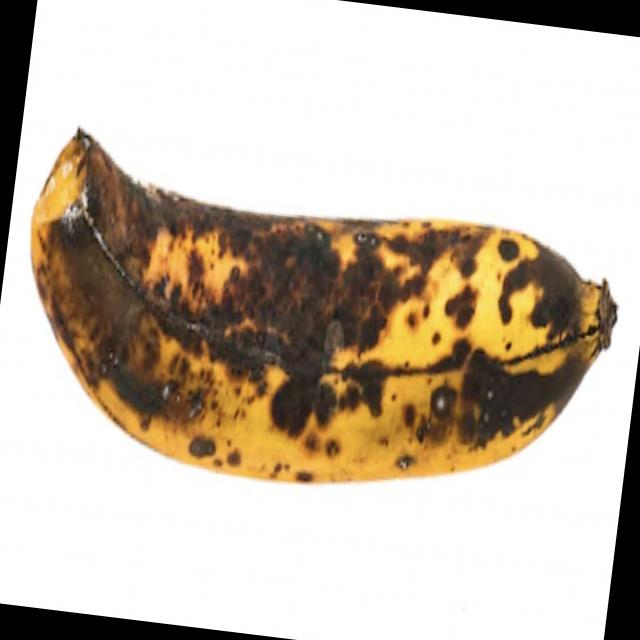rotten-banana: (13, 140, 629, 516)
